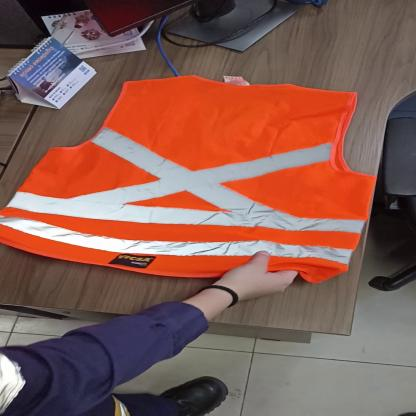colete: (1, 71, 379, 287)
